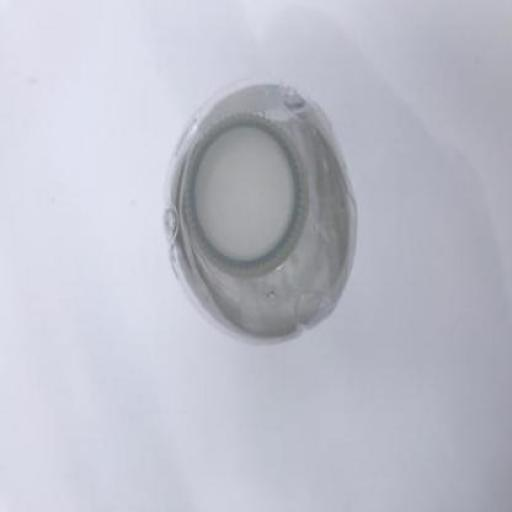plastic: (164, 79, 359, 342), (181, 113, 306, 277)
